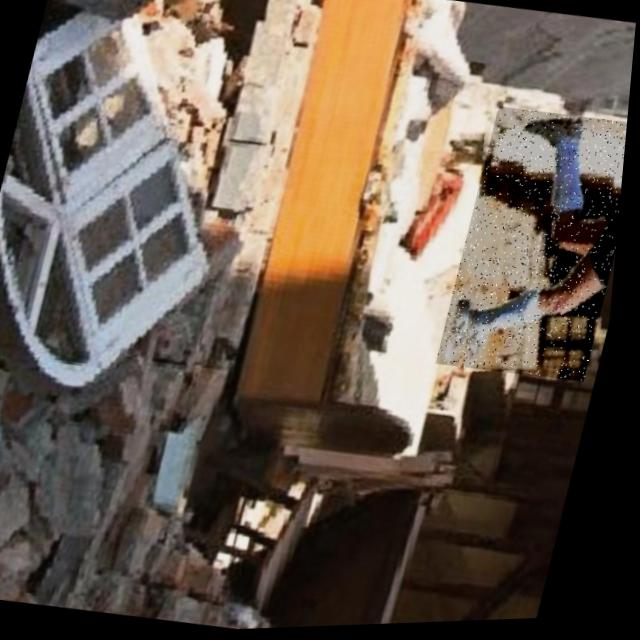Person in Rubble: (440, 106, 631, 391)
